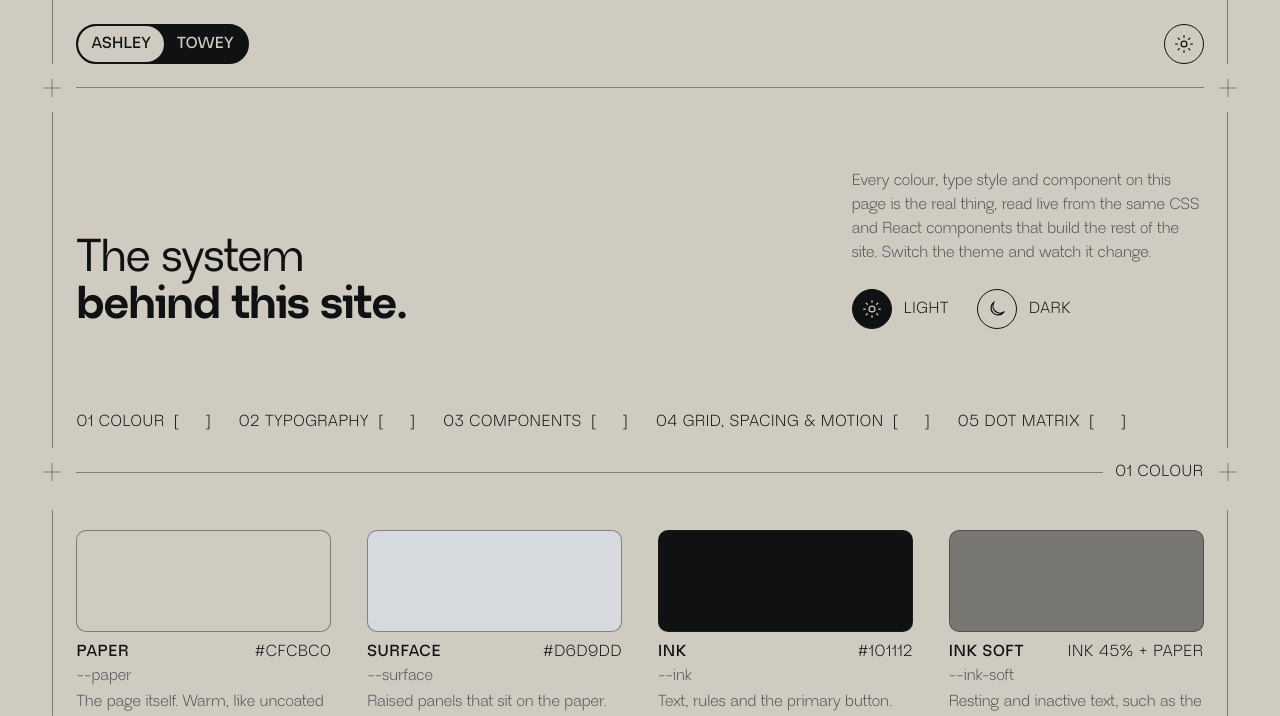
Test: design system page › clicking a token copies it, and its tooltip changes from COPY to COPIED
Click the button with aria-label "Copy var(--paper)" at (104, 676), box x1=76 y1=666 x2=132 y2=686
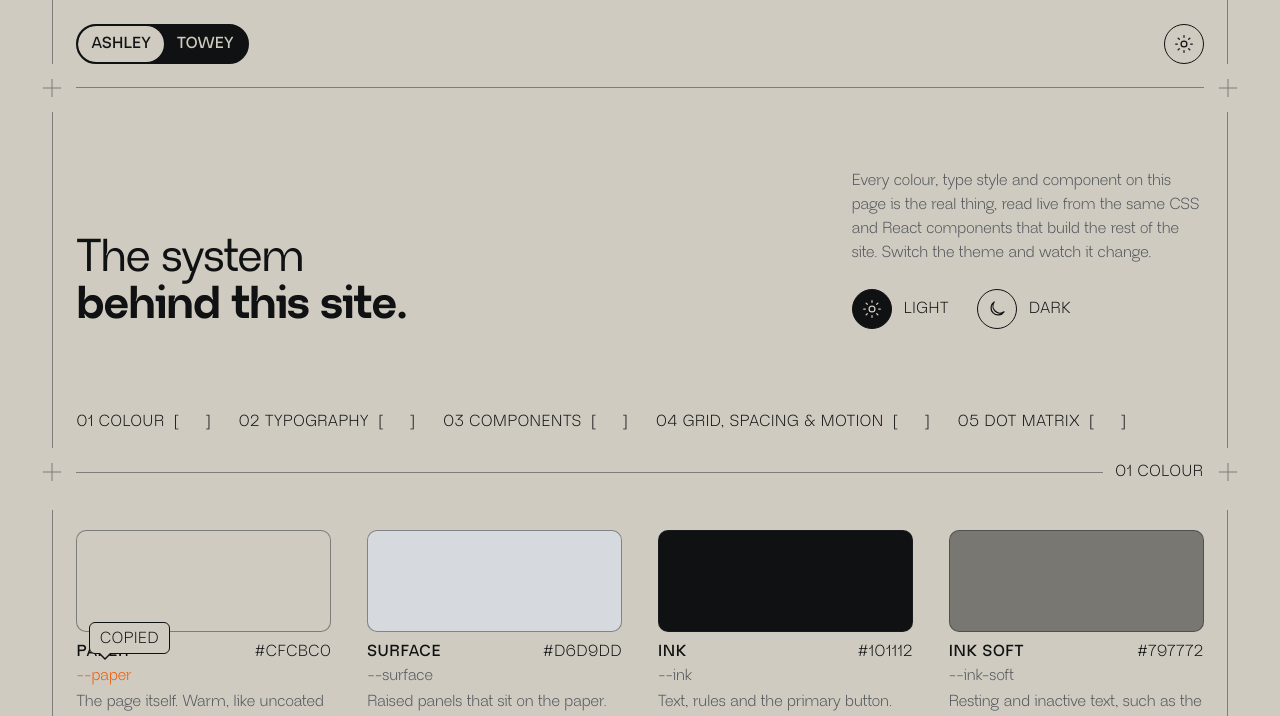
Now the button with aria-label "Copied var(--paper)" has attribute data-copied, box x1=76 y1=666 x2=132 y2=686
